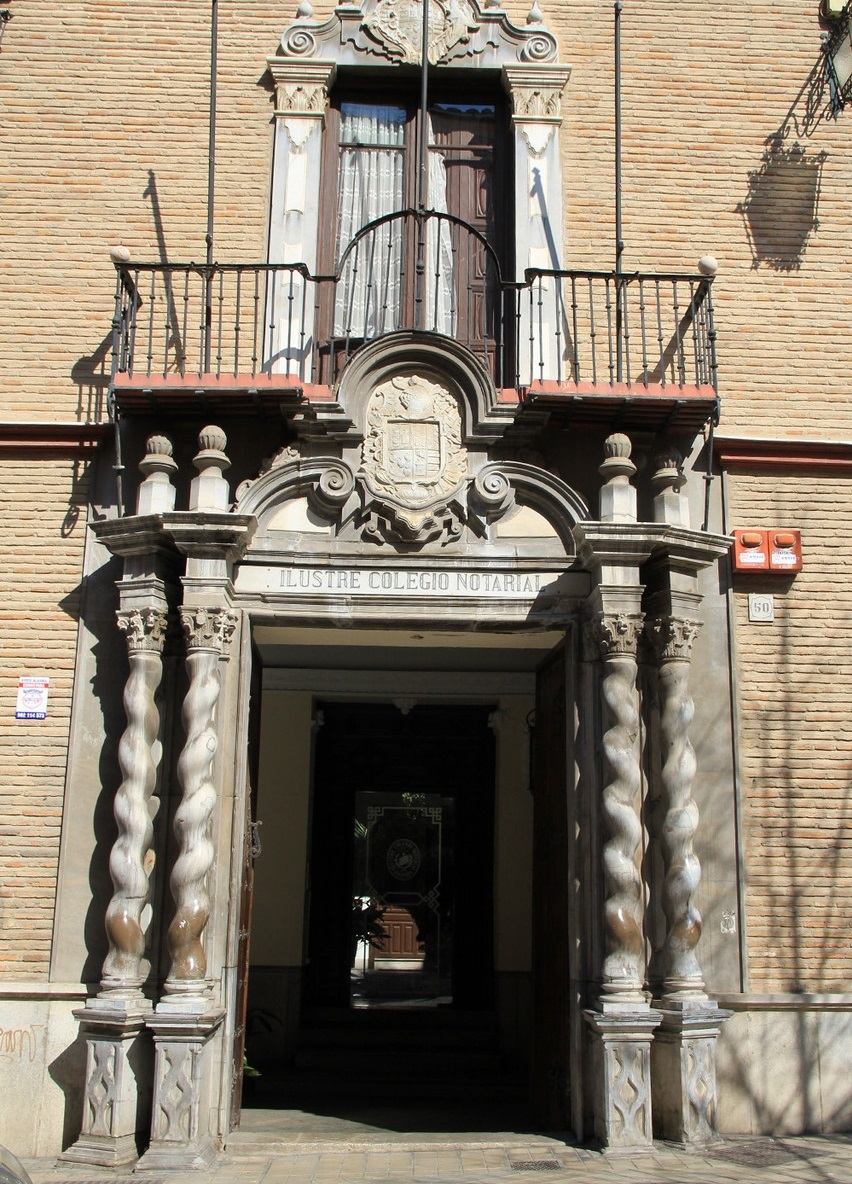columna-salomonica: (95, 645, 183, 1016), (578, 626, 657, 1019), (162, 640, 245, 1013), (646, 624, 725, 1008)
fronton-partido: (220, 448, 588, 586)
vano-adintelado: (226, 558, 594, 1159), (312, 46, 528, 394)
